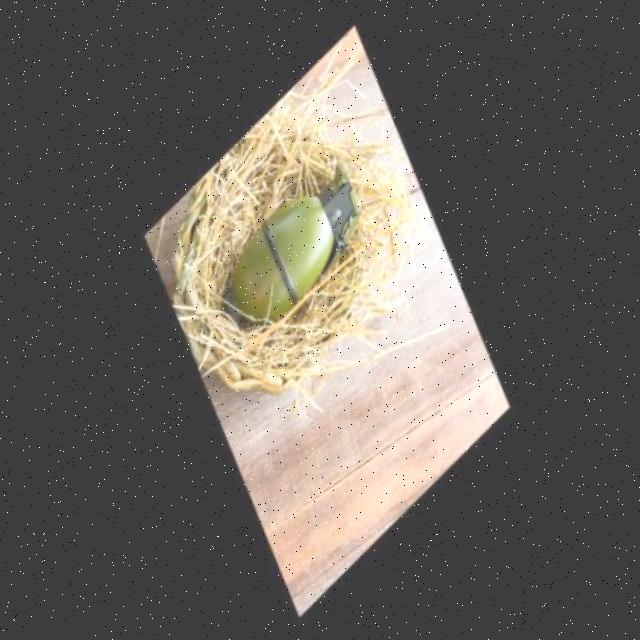grenade: (205, 139, 376, 349)
